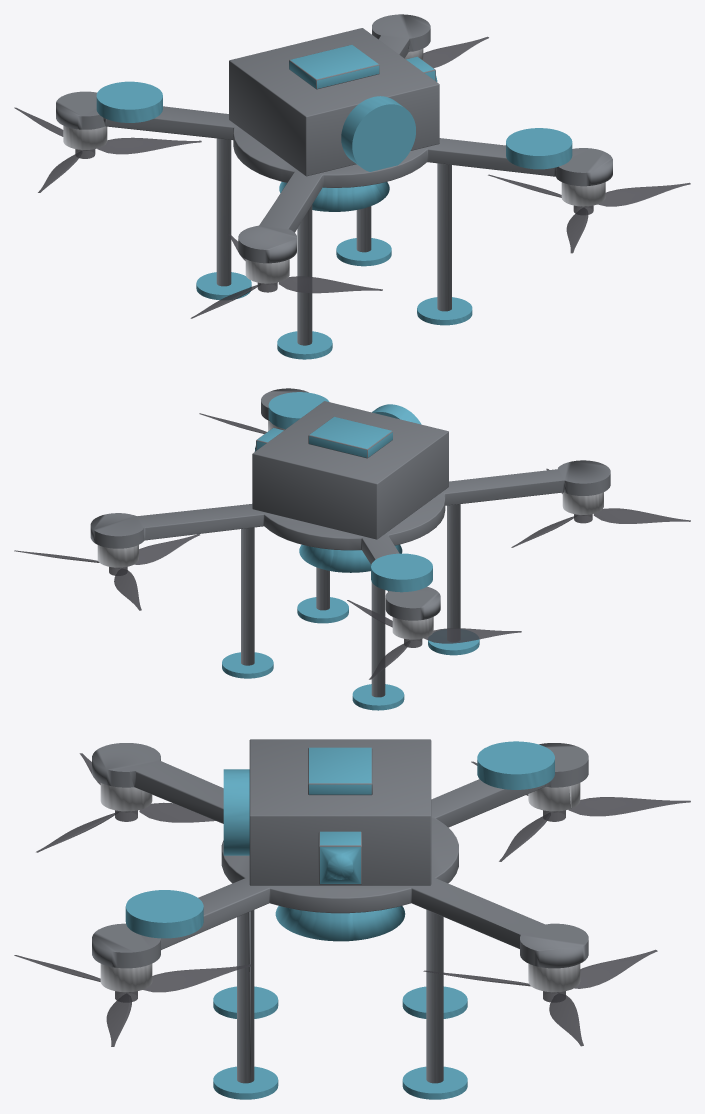
The model's file is castor.glb.
3 renders of one model, top to bottom at view 1: azimuth 30°, elevation 25°; view 2: azimuth 150°, elevation 25°; view 3: azimuth 270°, elevation 25°, orthographic. The views are drawn at different scales.
Parts seen in each view (by area): view 1: Castor V1; view 2: Castor V1; view 3: Castor V1.
Part boxes in pixels (left/top/right/bottom): Castor V1: left=14, top=14, right=690, bottom=359; Castor V1: left=14, top=388, right=690, bottom=710; Castor V1: left=14, top=739, right=690, bottom=1099.
Bounding box in the file's own units: 0.3216 × 0.1432 × 0.3133.
